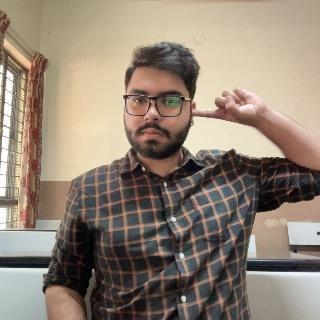Deaf: (193, 89, 277, 131)
Face: (122, 41, 193, 157)
